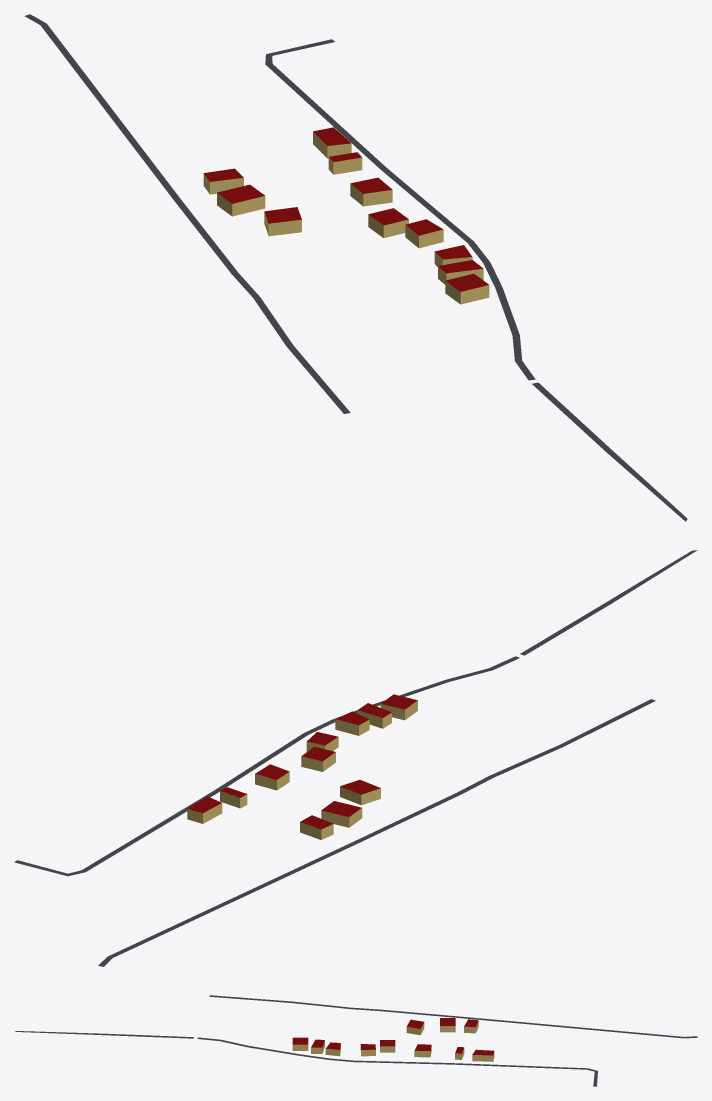
The model's file is district_-3_0.glb.
3 views of the same model, one above another, from view 1: azimuth 30°, elevation 25°; view 2: azimuth 150°, elevation 25°; view 3: azimuth 270°, elevation 25° (orthographic). The views are drawn at different scales.
Parts seen in each view (by area): view 1: Road Рубинная улица, Road улица Чехова, Building w44036402, Building w44036307, Building w624687504, Building w624687503, Building w44036361, Building w624687506, Building w624687501, Building w624687508; view 2: Road Рубинная улица, Road улица Чехова, Building w44036402, Building w624687503, Building w624687506, Building w624687504, Building w44036307, Building w44036361, Building w624687499; view 3: Road Рубинная улица, Road улица Чехова, Building w624687506, Building w624687503, Building w44036402, Building w44036307, Building w624687504, Building w44036361, Building w624687499, Building w624687501, Building w624687508, Building w624687497.
Part boxes in pixels (x1,y1,x2,y2): Road Рубинная улица: [265, 39, 687, 521]; Road улица Чехова: [24, 14, 350, 413]; Building w44036402: [217, 184, 265, 216]; Building w44036307: [445, 273, 489, 304]; Building w624687504: [350, 177, 392, 206]; Building w624687503: [264, 207, 301, 236]; Building w44036361: [368, 208, 408, 237]; Building w624687506: [313, 127, 351, 158]; Building w624687501: [405, 219, 443, 248]; Building w624687508: [203, 168, 243, 194]; Road Рубинная улица: [14, 550, 697, 876]; Road улица Чехова: [98, 699, 655, 966]; Building w44036402: [321, 801, 362, 827]; Building w624687503: [340, 779, 380, 805]; Building w624687506: [187, 796, 222, 823]; Building w624687504: [255, 764, 289, 790]; Building w44036307: [380, 694, 417, 720]; Building w44036361: [301, 746, 335, 771]; Building w624687499: [335, 711, 369, 735]; Road Рубинная улица: [15, 1031, 597, 1086]; Road улица Чехова: [209, 995, 697, 1038]; Building w624687506: [472, 1049, 494, 1061]; Building w624687503: [406, 1019, 424, 1035]; Building w44036402: [440, 1018, 455, 1032]; Building w44036307: [292, 1037, 308, 1050]; Building w624687504: [414, 1044, 431, 1057]; Building w44036361: [380, 1040, 395, 1052]; Building w624687499: [325, 1042, 340, 1056]; Building w624687501: [360, 1044, 375, 1056]; Building w624687508: [464, 1019, 478, 1033]; Building w624687497: [311, 1039, 324, 1053].
Bounding box in the file's own units: 233 × 7.5 × 735.
3 materials, 3 textured.
